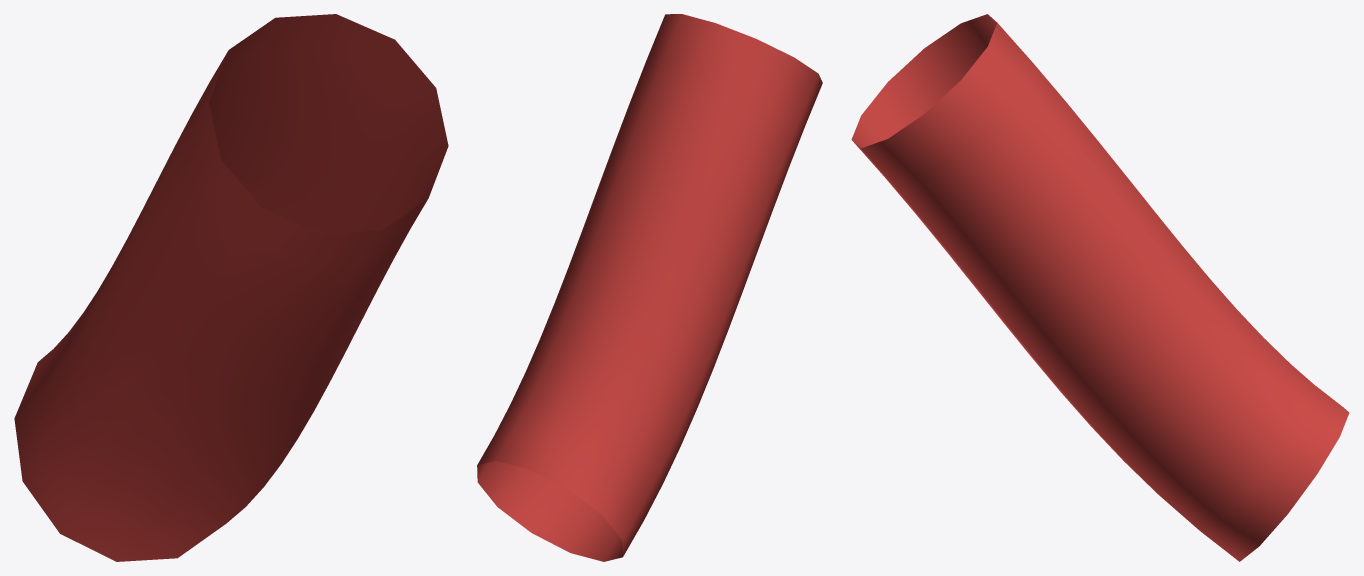
3 views of the same model, side by side, from view 1: azimuth 30°, elevation 25°; view 2: azimuth 150°, elevation 25°; view 3: azimuth 270°, elevation 25° (orthographic). The views are drawn at different scales.
Parts seen in each view (by area): view 1: 左侧胸肩峰动脉; view 2: 左侧胸肩峰动脉; view 3: 左侧胸肩峰动脉.
Boxes of the visible parts, left/top/right/bottom form: 左侧胸肩峰动脉: left=14, top=14, right=448, bottom=561; 左侧胸肩峰动脉: left=477, top=14, right=822, bottom=561; 左侧胸肩峰动脉: left=851, top=14, right=1349, bottom=561.
Bounding box in the file's own units: 0.007 × 0.0174 × 0.0153.
